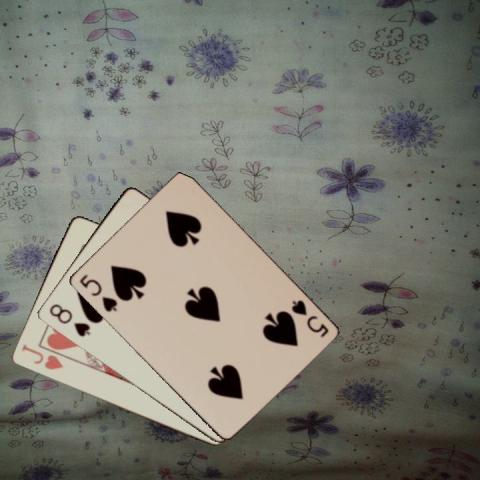5s: (76, 271, 119, 313), (288, 297, 329, 339)
8s: (45, 301, 92, 338)
Jh: (18, 341, 64, 371)
